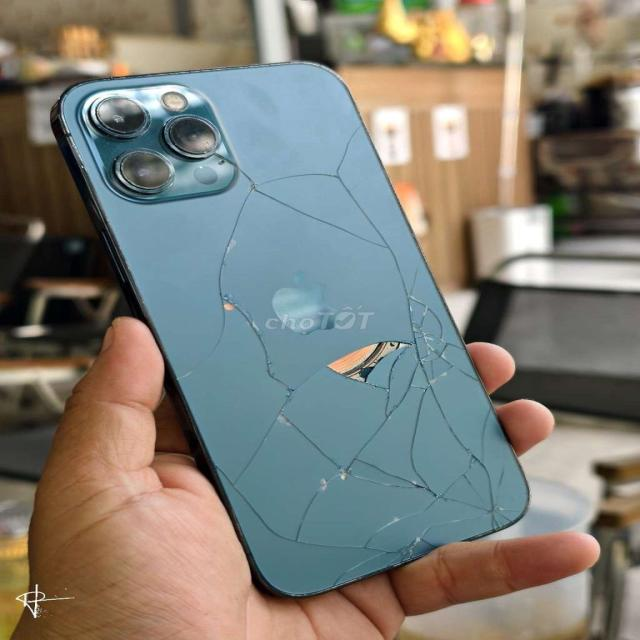physical_damage: (187, 97, 532, 588)
